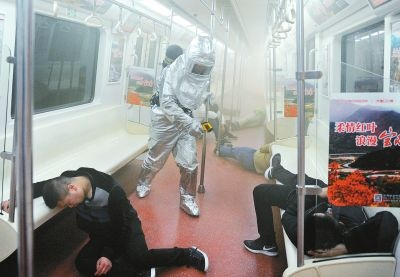falling: (239, 152, 399, 264)
